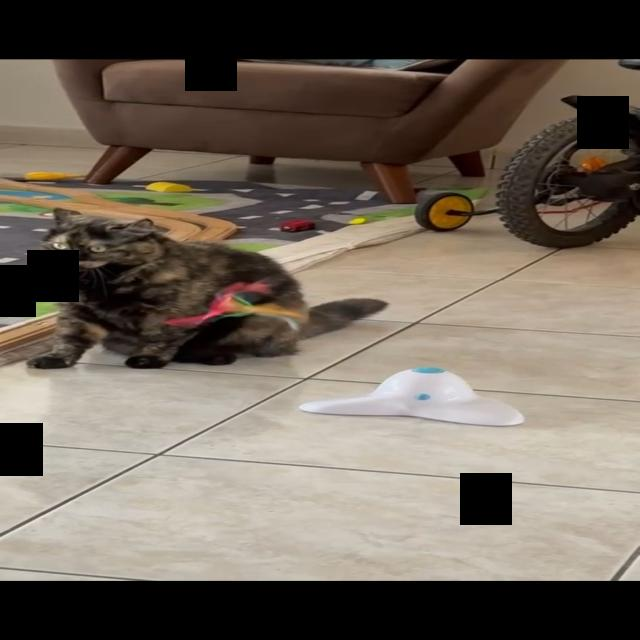authorized: (26, 207, 388, 370)
